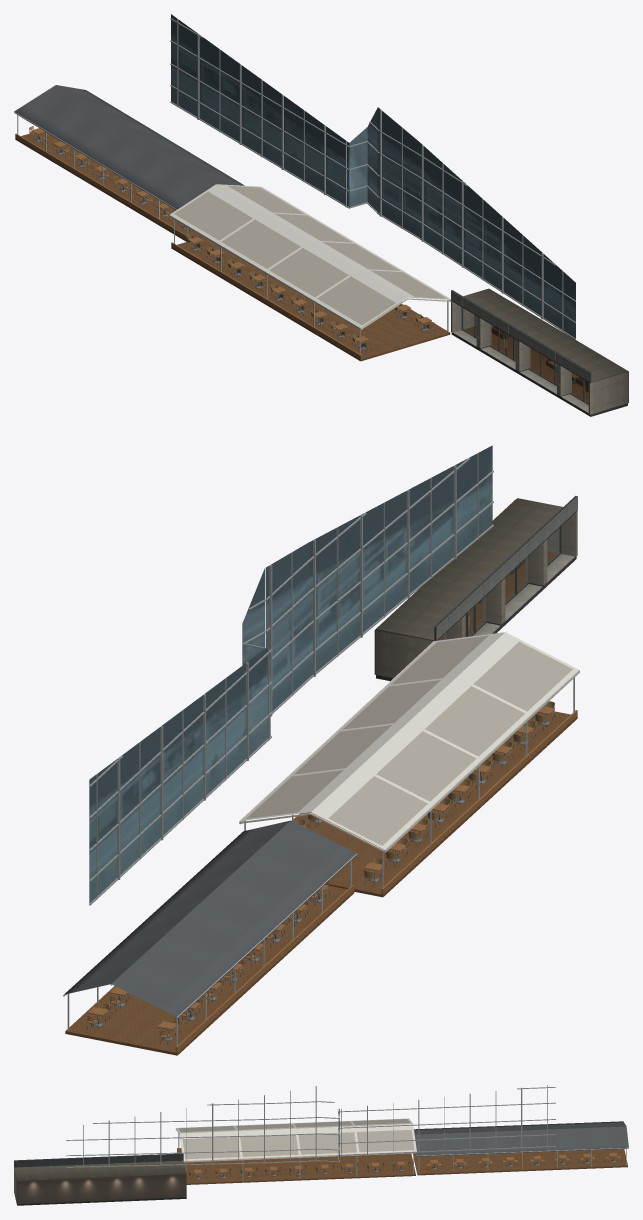
3 renders of one model, top to bottom at view 1: azimuth 30°, elevation 25°; view 2: azimuth 150°, elevation 25°; view 3: azimuth 270°, elevation 25°, orthographic. The views are drawn at different scales.
Parts seen in each view (by area): view 1: One Fullerton laminated glazing, Roof infill, Charcoal, Recessed shop cladding, Deck, Anodised glazing bars, Pale roof trim, Teak, Courtyard entrance glass, Interior timber joinery, Metal, Cane (+3 smaller); view 2: One Fullerton laminated glazing, Charcoal, Roof infill, Recessed shop cladding, Deck, Pale roof trim, Anodised glazing bars, Teak, Metal, Canopy frame, Cane, Courtyard entrance glass (+2 smaller); view 3: Deck, Charcoal, Roof infill, Anodised glazing bars, Recessed shop cladding, Wall washed plaster, Pale roof trim, Teak, Metal, Canopy frame, Cane, Dining tables.
Part boxes in pixels (box(x1,y1,x2,y2)): One Fullerton laminated glazing: box(171, 14, 575, 338); Roof infill: box(174, 185, 447, 324); Charcoal: box(14, 85, 244, 210); Recessed shop cladding: box(451, 288, 627, 416); Deck: box(15, 132, 450, 361); Anodised glazing bars: box(170, 18, 575, 339); Pale roof trim: box(169, 184, 451, 330); Teak: box(15, 126, 434, 359); Courtyard entrance glass: box(463, 308, 587, 402); Interior timber joinery: box(464, 325, 627, 411); Metal: box(29, 128, 434, 352); Cane: box(187, 235, 434, 347); One Fullerton laminated glazing: box(89, 445, 492, 903); Charcoal: box(63, 820, 356, 1018); Roof infill: box(246, 635, 572, 845); Recessed shop cladding: box(376, 496, 577, 681); Deck: box(65, 711, 577, 1055); Pale roof trim: box(239, 632, 579, 852); Anodised glazing bars: box(89, 453, 493, 905); Teak: box(87, 701, 577, 1052); Metal: box(86, 712, 554, 1044); Canopy frame: box(63, 677, 574, 1046); Cane: box(295, 701, 554, 878); Courtyard entrance glass: box(439, 528, 559, 639); Deck: box(177, 1149, 627, 1184); Charcoal: box(414, 1121, 628, 1156); Roof infill: box(178, 1119, 414, 1159); Anodised glazing bars: box(66, 1085, 555, 1167); Recessed shop cladding: box(14, 1153, 186, 1205); Wall washed plaster: box(17, 1174, 186, 1204); Pale roof trim: box(175, 1118, 416, 1162); Teak: box(177, 1148, 621, 1175); Metal: box(189, 1155, 621, 1179); Canopy frame: box(178, 1133, 628, 1180); Cane: box(189, 1162, 409, 1175); Dining tables: box(194, 1161, 404, 1173).
Size of the model in its own units: 15.68 by 12.06 by 62.42.
18 materials, 9 textured.
